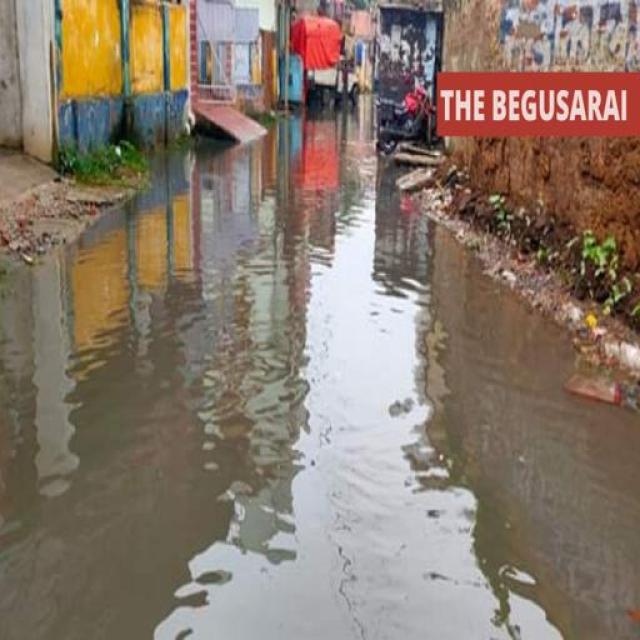puddle: (11, 273, 486, 632), (155, 150, 393, 635), (457, 402, 621, 640)
